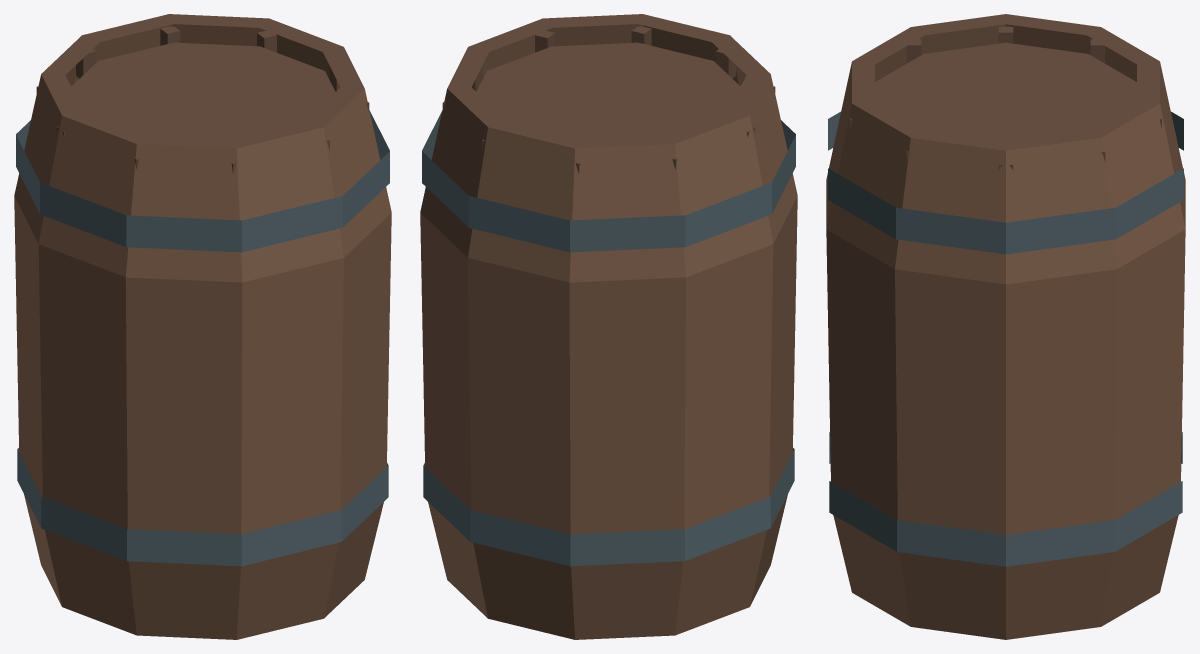
Rendered from ENV_Barrel_A_LOD0.glb.
The picture shows the model from 3 angles, left to right: view 1: azimuth 30°, elevation 25°; view 2: azimuth 150°, elevation 25°; view 3: azimuth 270°, elevation 25°; orthographic projection.
Parts seen in each view (by area): view 1: ENV_Barrel_A_LOD0_staves_wood, ENV_Barrel_A_LOD0_staves_woodDark, ENV_Barrel_A_LOD0_hoops_iron; view 2: ENV_Barrel_A_LOD0_staves_wood, ENV_Barrel_A_LOD0_staves_woodDark, ENV_Barrel_A_LOD0_hoops_iron; view 3: ENV_Barrel_A_LOD0_staves_wood, ENV_Barrel_A_LOD0_staves_woodDark, ENV_Barrel_A_LOD0_hoops_iron.
Boxes of the visible parts, x1,y1,x2,y2 form: ENV_Barrel_A_LOD0_staves_wood: [14, 24, 391, 639]; ENV_Barrel_A_LOD0_staves_woodDark: [36, 14, 369, 173]; ENV_Barrel_A_LOD0_hoops_iron: [16, 111, 389, 566]; ENV_Barrel_A_LOD0_staves_wood: [420, 24, 797, 639]; ENV_Barrel_A_LOD0_staves_woodDark: [442, 14, 775, 173]; ENV_Barrel_A_LOD0_hoops_iron: [422, 111, 795, 566]; ENV_Barrel_A_LOD0_staves_wood: [826, 24, 1185, 639]; ENV_Barrel_A_LOD0_staves_woodDark: [850, 14, 1161, 170]; ENV_Barrel_A_LOD0_hoops_iron: [828, 111, 1183, 566].
Size of the model in its own units: 0.7 by 1 by 0.6657.
